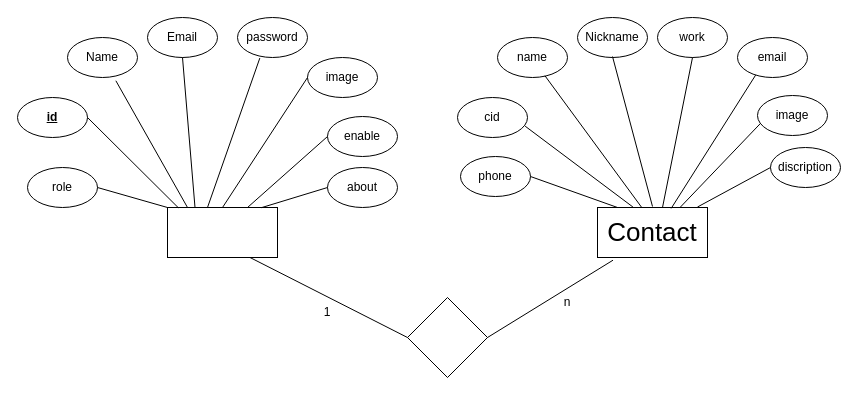
The diagram is 858 pixels wide and 395 high, and some of its shapes have lost their labels. Here are the shapes that lost their labels. From the top down, the centre of each, then its label:
At pixel 222 232: "User".
At pixel 447 337: "has".
